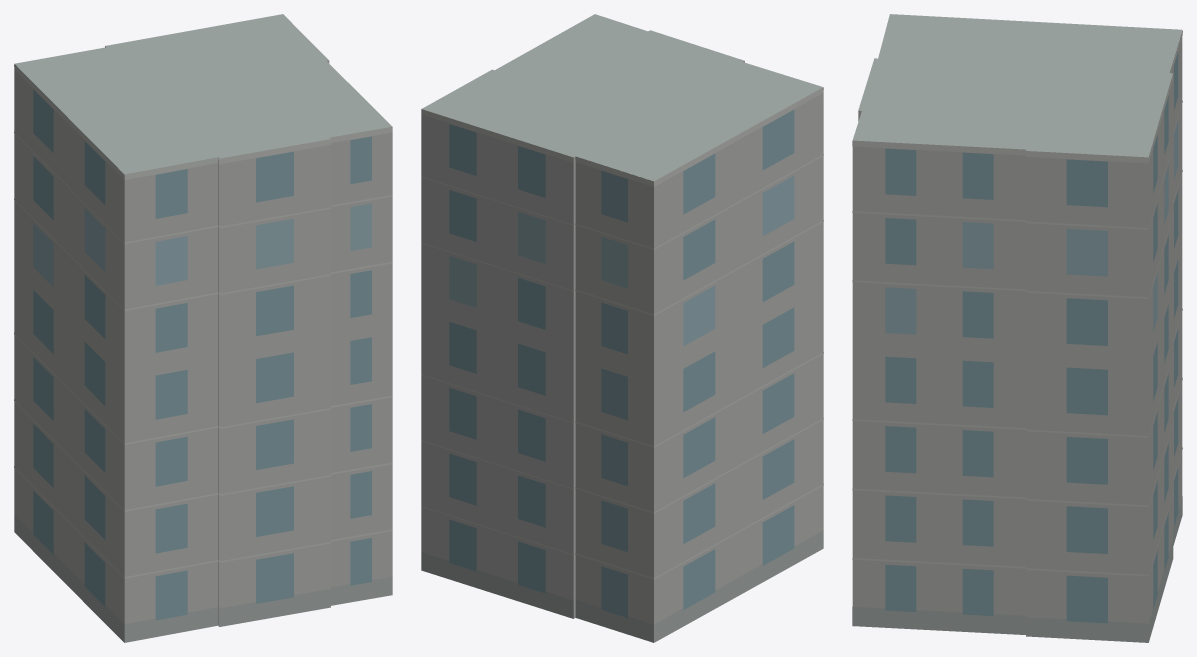
File: survey-upis-32804056.glb
3 renders of one model, left to right at view 1: azimuth 30°, elevation 25°; view 2: azimuth 150°, elevation 25°; view 3: azimuth 270°, elevation 25°, orthographic. The views are drawn at different scales.
Parts seen in each view (by area): view 1: survey-upis-32804056.tmp; view 2: survey-upis-32804056.tmp; view 3: survey-upis-32804056.tmp.
Boxes of the visible parts, left/top/right/bottom form: survey-upis-32804056.tmp: left=14, top=14, right=392, bottom=642; survey-upis-32804056.tmp: left=421, top=14, right=823, bottom=642; survey-upis-32804056.tmp: left=852, top=14, right=1182, bottom=642.
Size of the model in its own units: 12.5 by 19.7 by 12.16.
